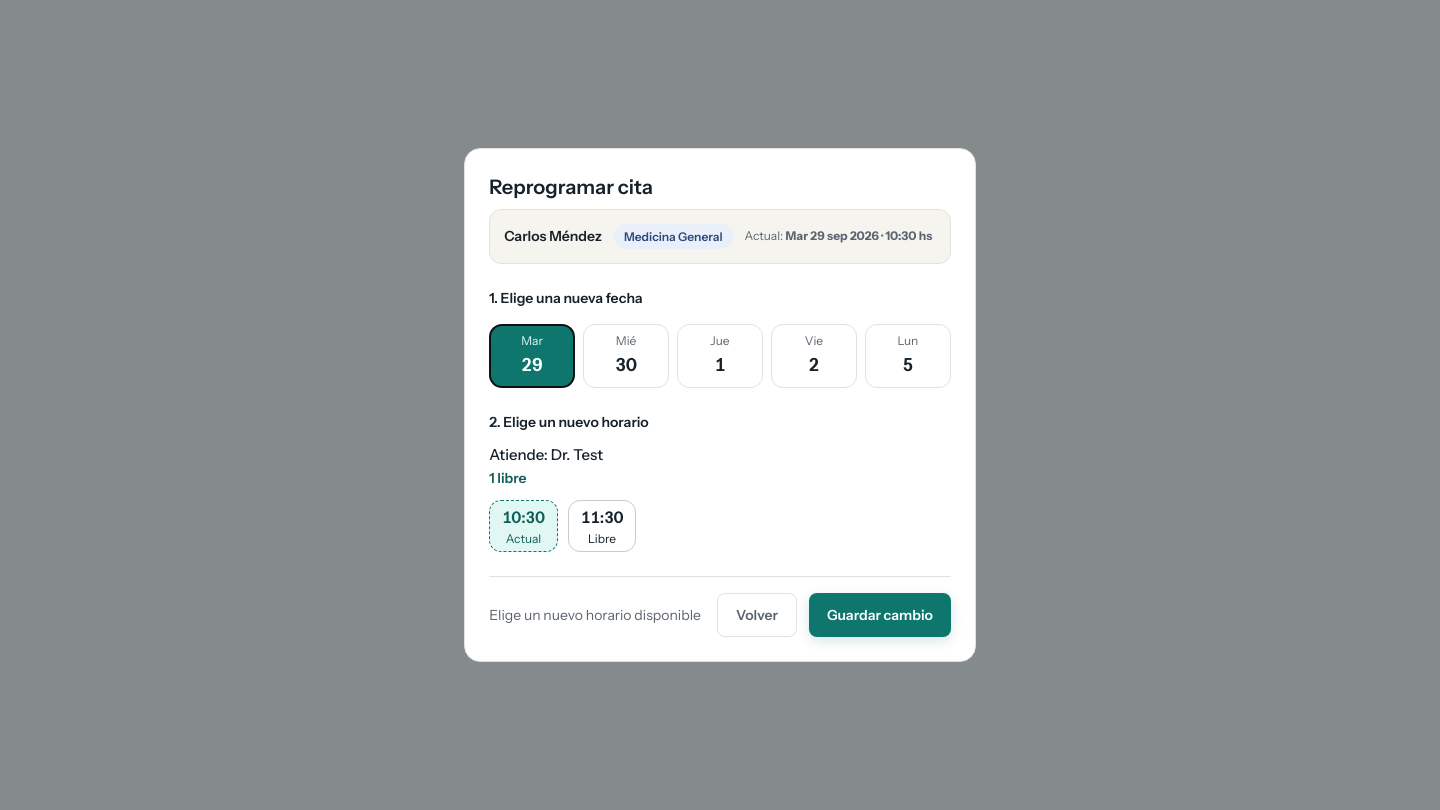
Scenario: RescheduleDialog › allows selecting a slot and enables "Guardar cambio" button
Expected: the button "Guardar cambio" is disabled, [809, 593, 951, 637]
Click the button with aria-label "11:30, libre". click: (602, 526)
box: [568, 500, 636, 552]
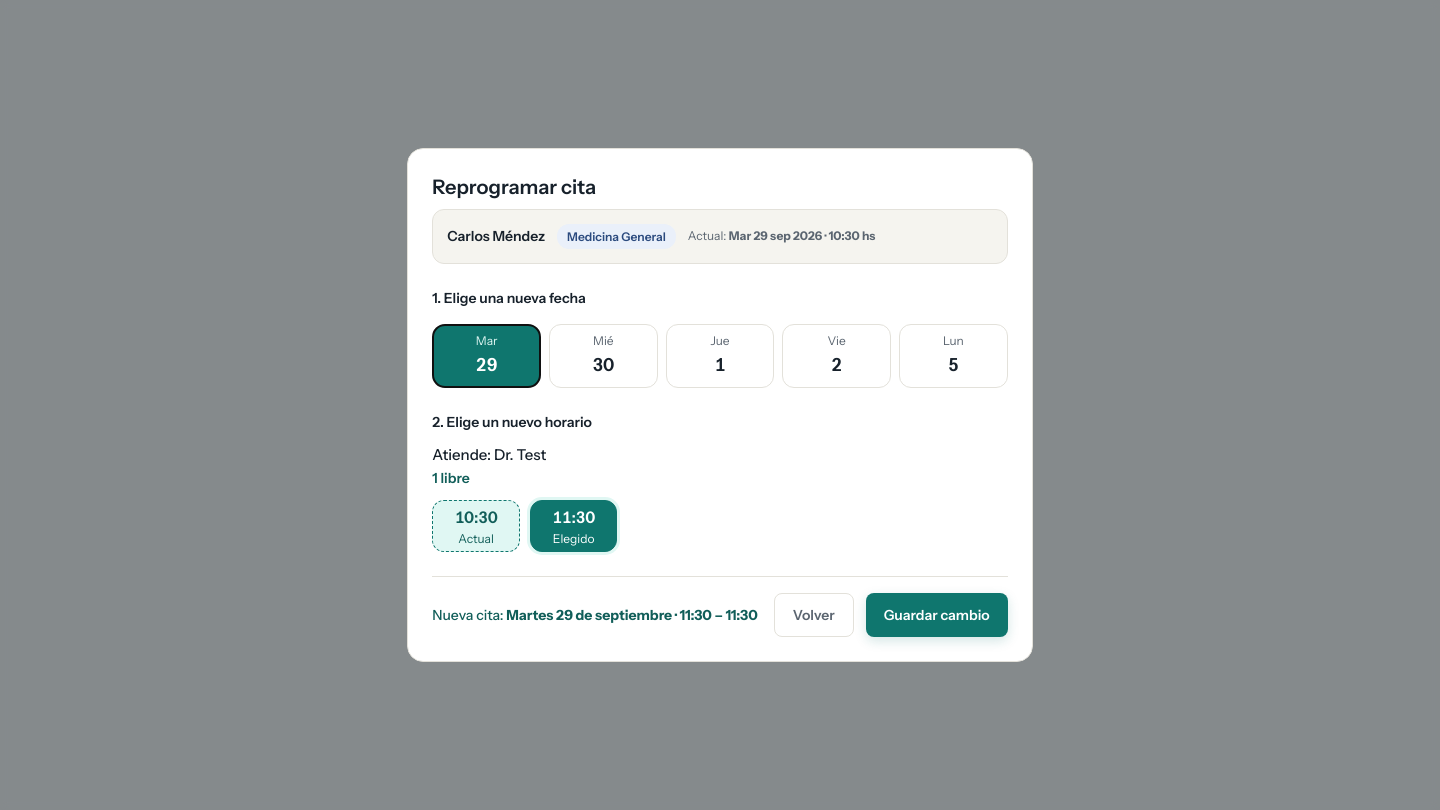
Expected: the button "Guardar cambio" is enabled, [866, 593, 1008, 637]
Expected: the text "Nueva cita: Martes 29 de septiembre · 11:30 – 11:30" is shown, [432, 605, 758, 625]
